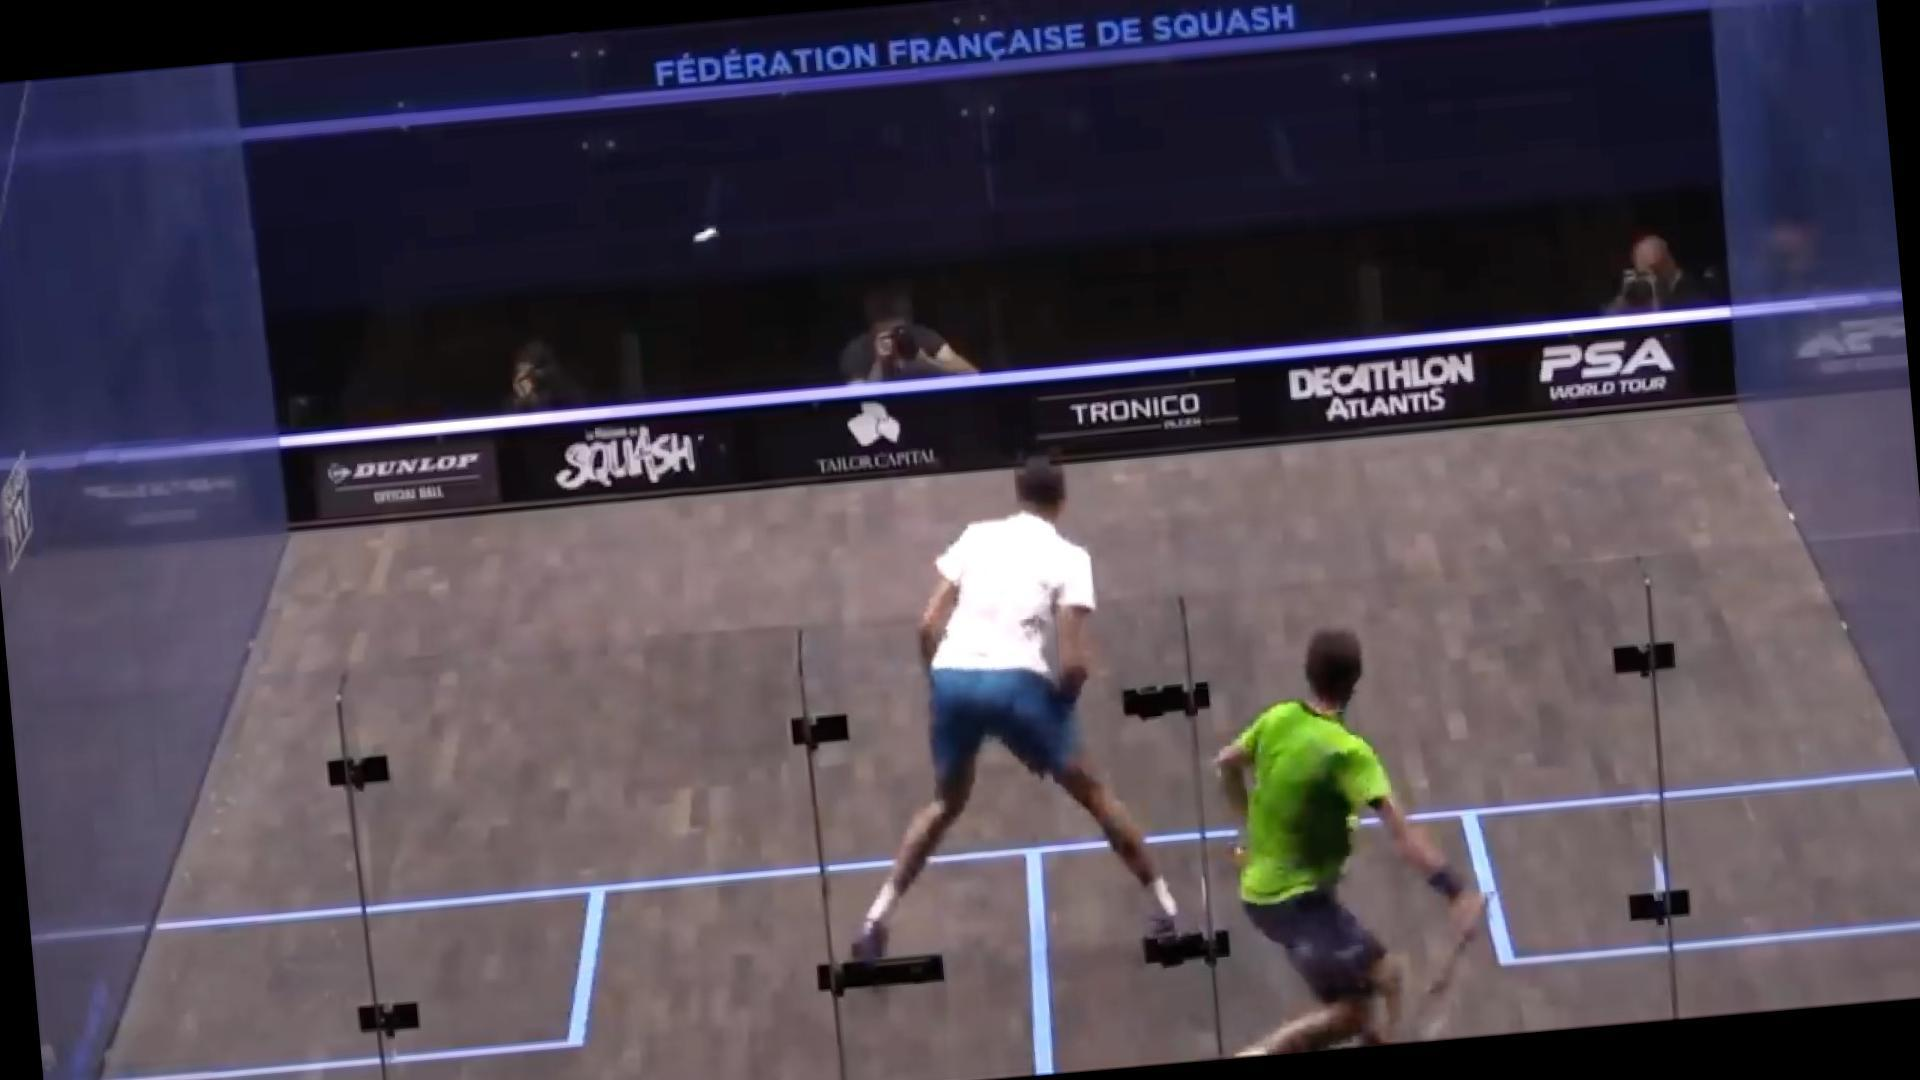Squash-Ball: (680, 208, 735, 262)
